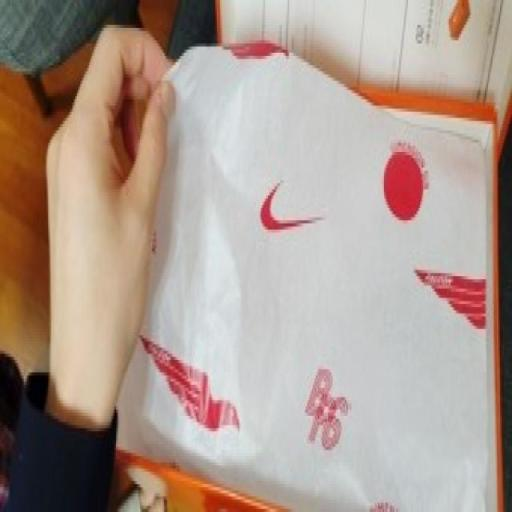Nike: (254, 171, 328, 245)
